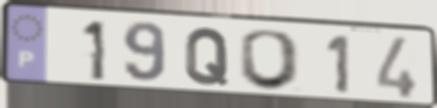1: (80, 18, 108, 82), (325, 33, 352, 95)
4: (373, 33, 420, 101)
9: (120, 19, 168, 87)
O: (236, 28, 305, 93)
Q: (182, 26, 232, 88)
